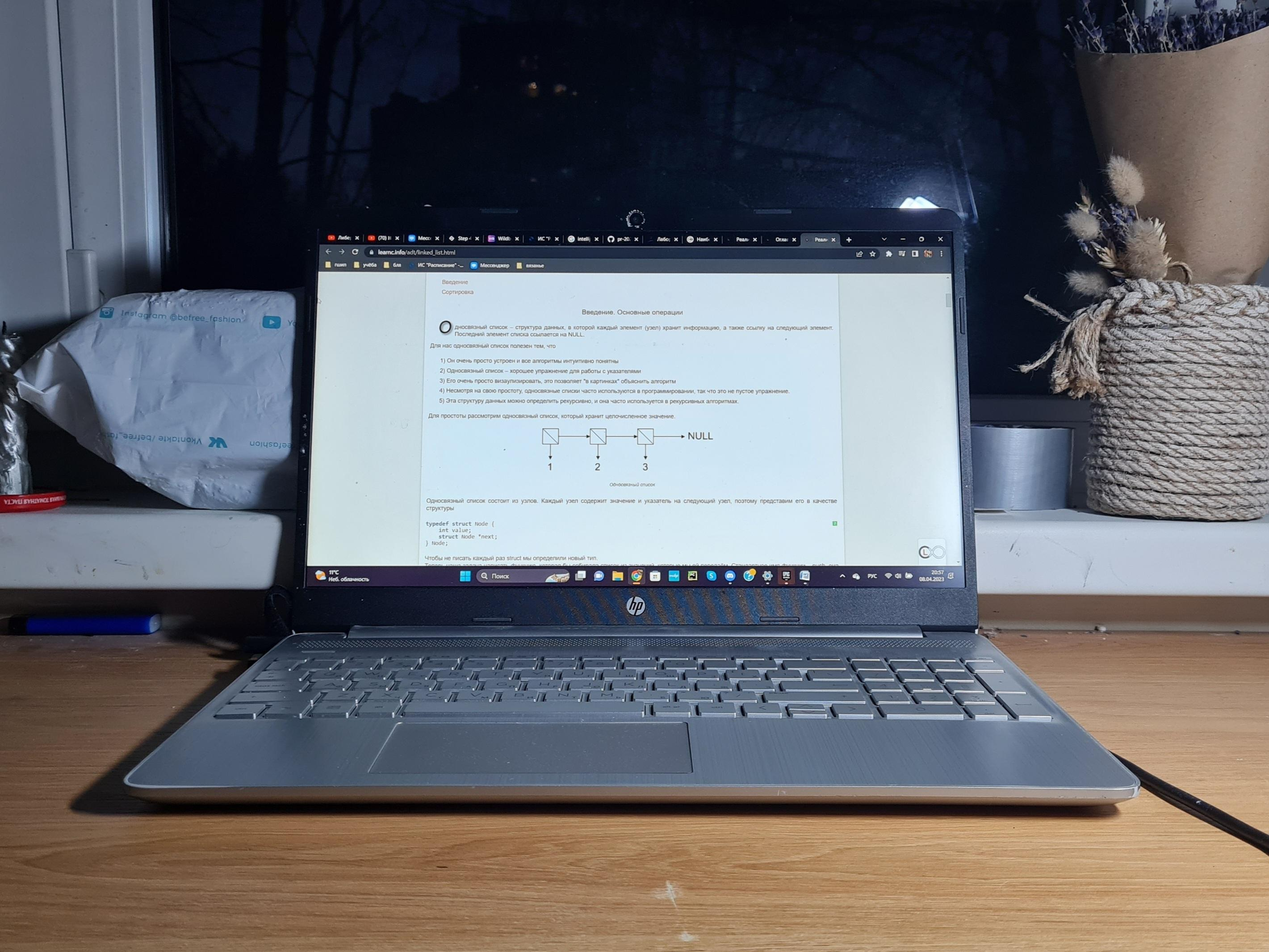monitor: (287, 203, 978, 630)
